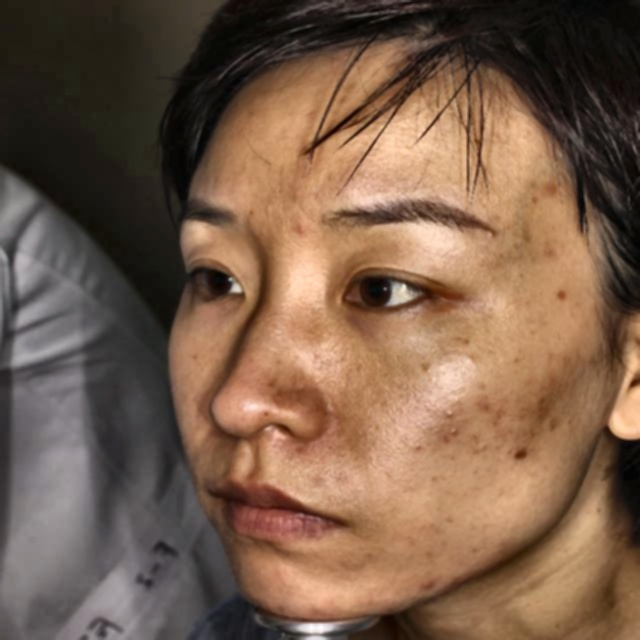comedone: (414, 570, 449, 589), (539, 172, 559, 197), (485, 400, 506, 421)
